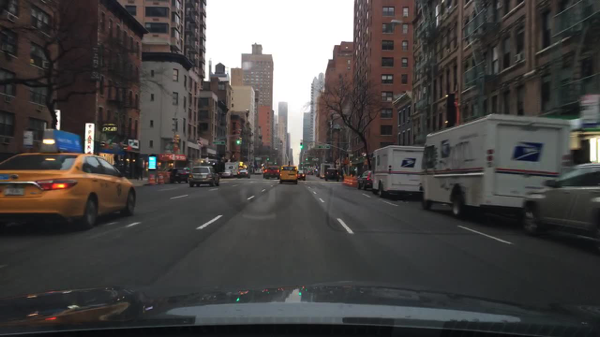car: (0, 128, 135, 229), (521, 162, 599, 248), (186, 166, 220, 188), (279, 160, 298, 184), (169, 166, 190, 183), (356, 169, 372, 191), (324, 168, 339, 181), (265, 166, 279, 178), (236, 170, 251, 178), (220, 170, 231, 177), (299, 170, 306, 180), (307, 167, 314, 176), (261, 166, 266, 177)
person: (136, 155, 144, 181)
traffic light: (235, 136, 240, 146), (238, 136, 242, 147), (299, 142, 301, 149)
traffic sign: (210, 140, 224, 145), (315, 145, 329, 150), (345, 148, 351, 153)
truck: (418, 112, 570, 216), (369, 145, 425, 198), (318, 162, 335, 180), (224, 162, 238, 177), (253, 166, 263, 176)
